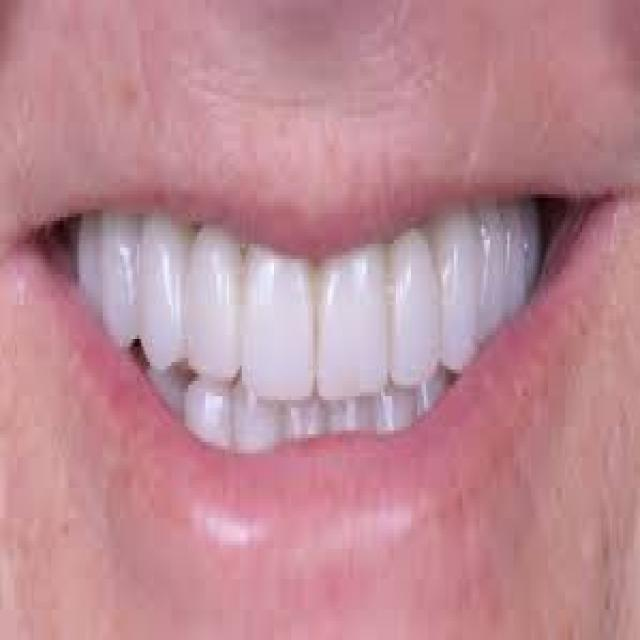tooth: (246, 248, 313, 392), (317, 248, 385, 388), (193, 232, 242, 370), (137, 217, 184, 347), (392, 248, 439, 370), (443, 232, 473, 362), (98, 214, 130, 332), (188, 385, 232, 442), (479, 217, 499, 332), (235, 396, 272, 450), (505, 217, 522, 324), (526, 206, 544, 301), (280, 400, 330, 434), (336, 400, 375, 442), (75, 221, 98, 289), (150, 366, 182, 404), (386, 404, 418, 426), (426, 388, 441, 412)
